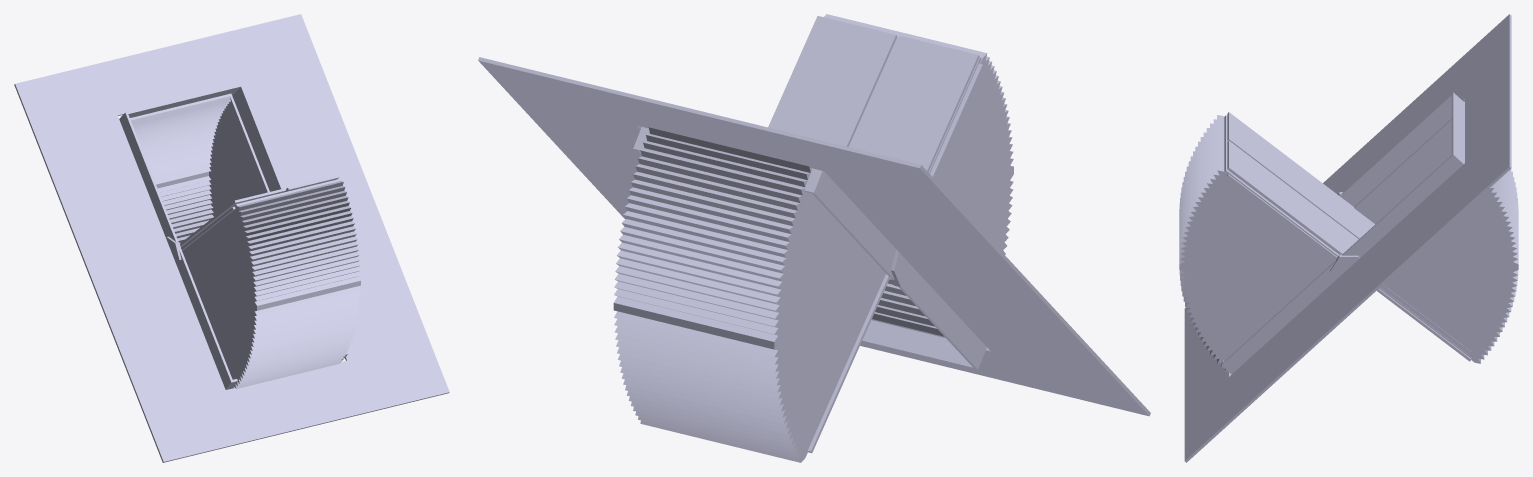
The model's file is RoofDock_-40deg.glb.
3 renders of one model, left to right at view 1: azimuth 30°, elevation 25°; view 2: azimuth 150°, elevation 25°; view 3: azimuth 270°, elevation 25°, orthographic. The views are drawn at different scales.
Parts seen in each view (by area): view 1: copy_Body021, copy_Body023, copy_Body022, copy_Body, copy_LinkGroup004; view 2: copy_Body022, copy_Body021, copy_LinkGroup004, copy_Body023, copy_Body, copy_LinkGroup003; view 3: copy_Body021, copy_Body023, copy_Body022, copy_LinkGroup004, copy_Body, copy_LinkGroup003, copy_Body001.
Boxes of the visible parts, left/top/right/bottom form: copy_Body021: left=14, top=14, right=449, bottom=462; copy_Body023: left=182, top=181, right=360, bottom=388; copy_Body022: left=130, top=93, right=269, bottom=243; copy_Body: left=119, top=84, right=348, bottom=389; copy_LinkGroup004: left=180, top=175, right=340, bottom=247; copy_Body022: left=613, top=127, right=885, bottom=462; copy_Body021: left=478, top=57, right=1150, bottom=416; copy_LinkGroup004: left=768, top=16, right=981, bottom=173; copy_Body023: left=824, top=14, right=1013, bottom=337; copy_Body: left=633, top=127, right=986, bottom=369; copy_LinkGroup003: left=807, top=63, right=983, bottom=452; copy_Body021: left=1184, top=14, right=1511, bottom=462; copy_Body023: left=1179, top=115, right=1335, bottom=371; copy_Body022: left=1354, top=119, right=1518, bottom=363; copy_LinkGroup004: left=1224, top=112, right=1471, bottom=355; copy_Body: left=1221, top=92, right=1464, bottom=374; copy_LinkGroup003: left=1226, top=174, right=1471, bottom=361; copy_Body001: left=1330, top=254, right=1359, bottom=280.
Size of the model in its own units: 1.68 by 1.52 by 1.57.
